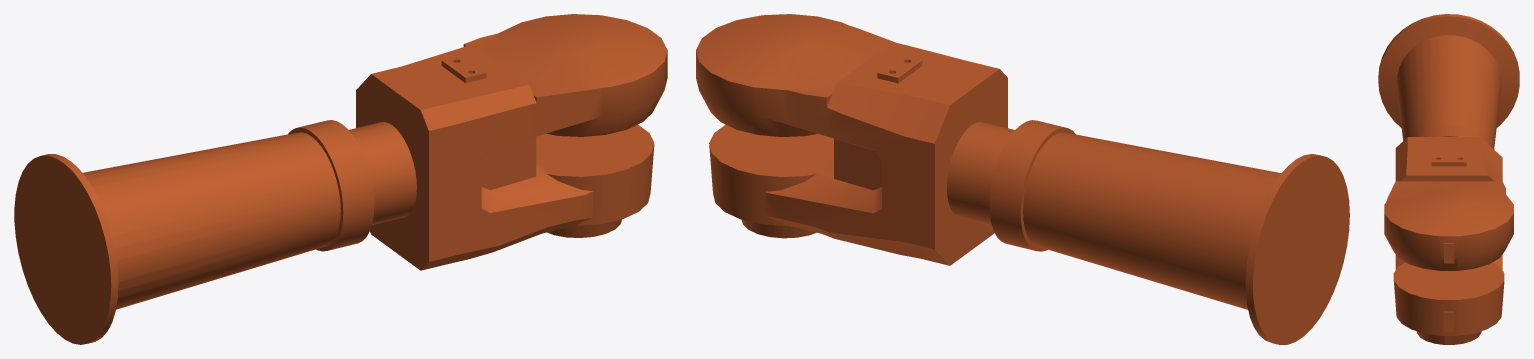
3 renders of one model, left to right at view 1: azimuth 30°, elevation 25°; view 2: azimuth 150°, elevation 25°; view 3: azimuth 270°, elevation 25°, orthographic. The views are drawn at different scales.
Parts seen in each view (by area): view 1: Link_4; view 2: Link_4; view 3: Link_4.
Boxes of the visible parts, x1=… form: Link_4: x1=14, y1=14, x2=667, y2=344; Link_4: x1=696, y1=14, x2=1349, y2=344; Link_4: x1=1378, y1=14, x2=1519, y2=344.
Size of the model in its own units: 0.573 by 0.1684 by 0.1617.
